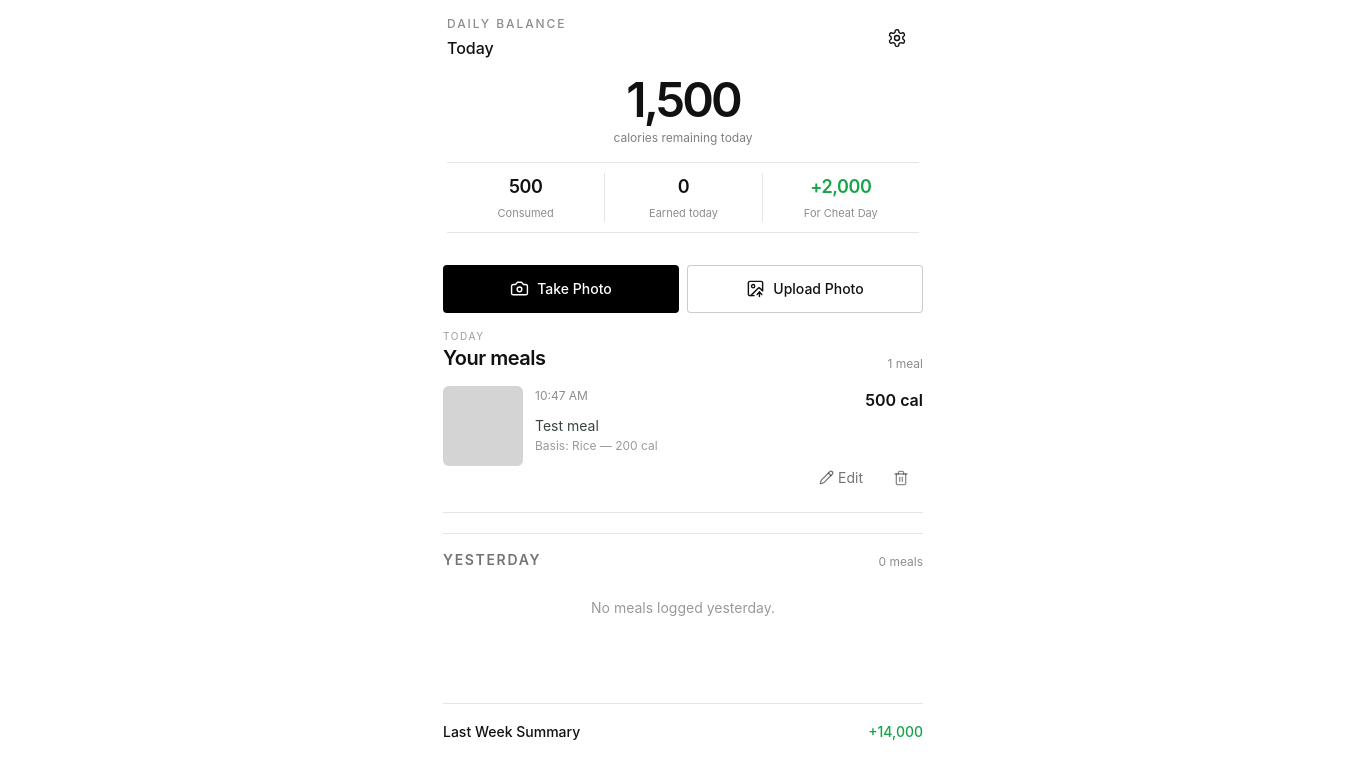
Test case: Home meal persistence › edits, saves, closes the drawer, and persists the update
Check: the text "Test meal" is shown, box [535,416,599,434]
Click the button "Edit" at (841, 478), box [807,456,875,500]
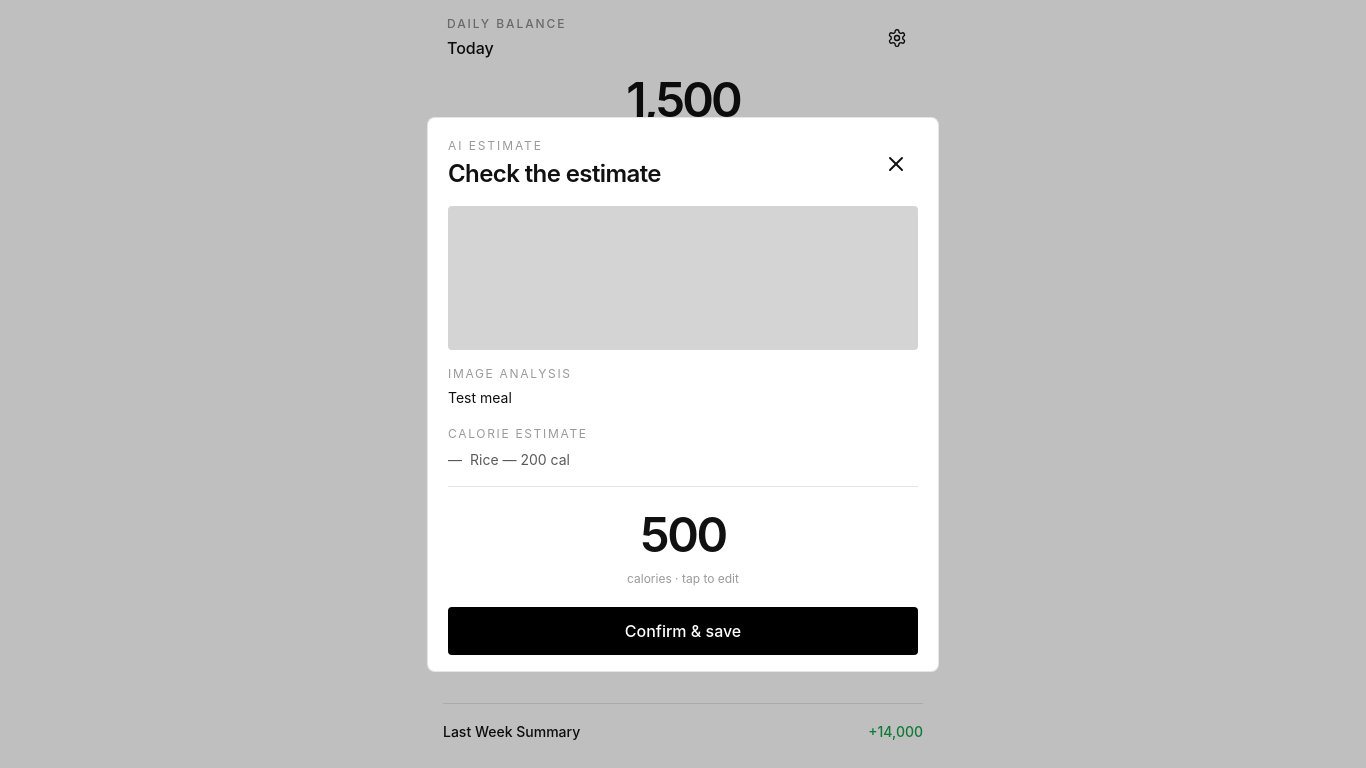
Replace the text in the number field named "Estimated calories" with "625" at (683, 534), box [448,502,918,566]
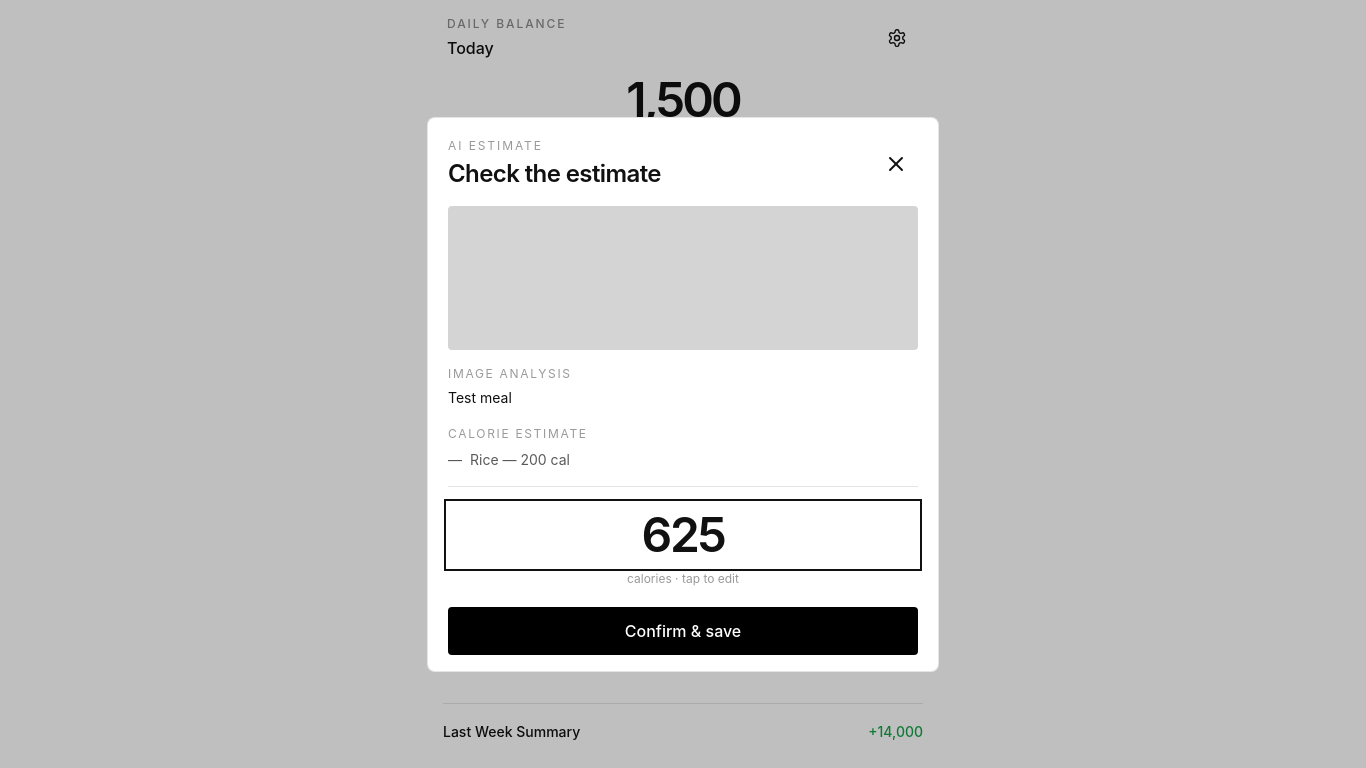
Click the button "Confirm & save" at (683, 630), box [448,606,918,654]
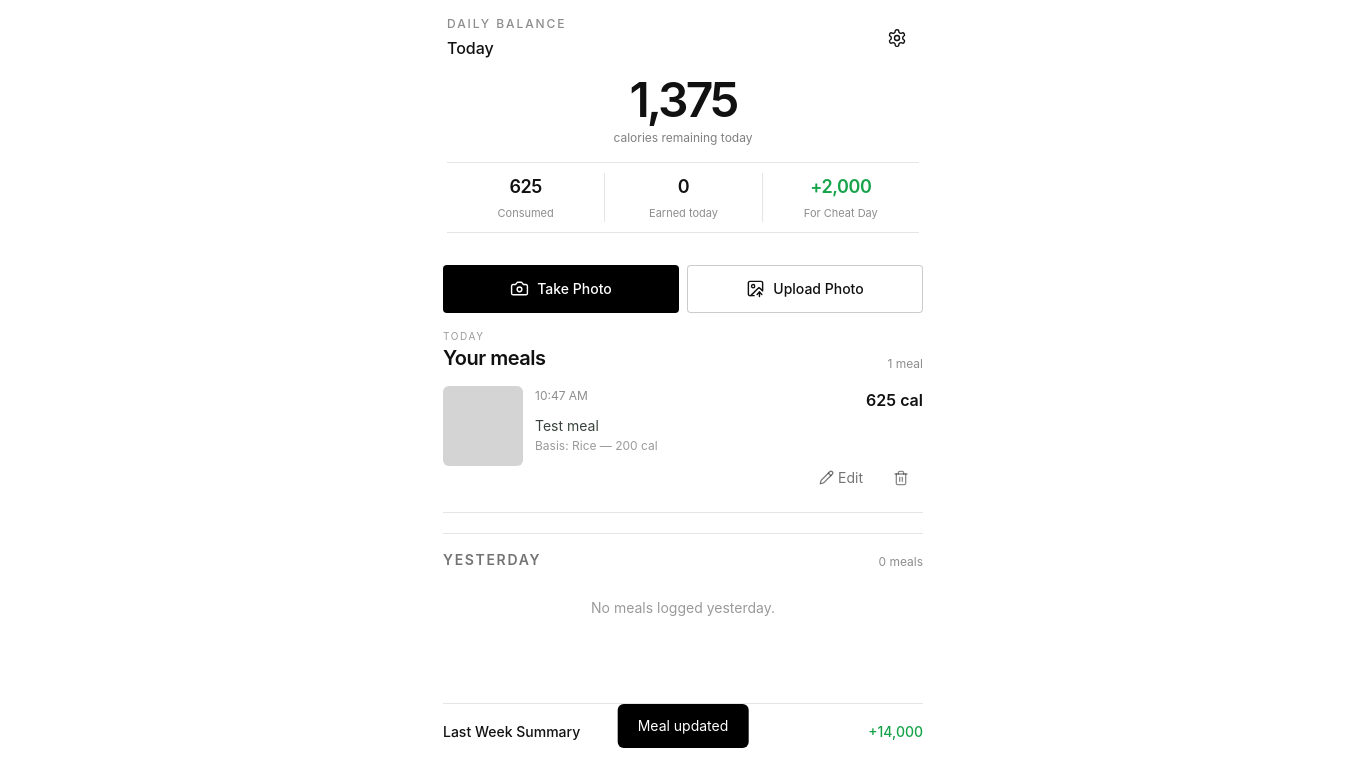
Check: the heading "Check the estimate" is gone
Check: the text "625 cal" is shown, box [866,388,923,412]
